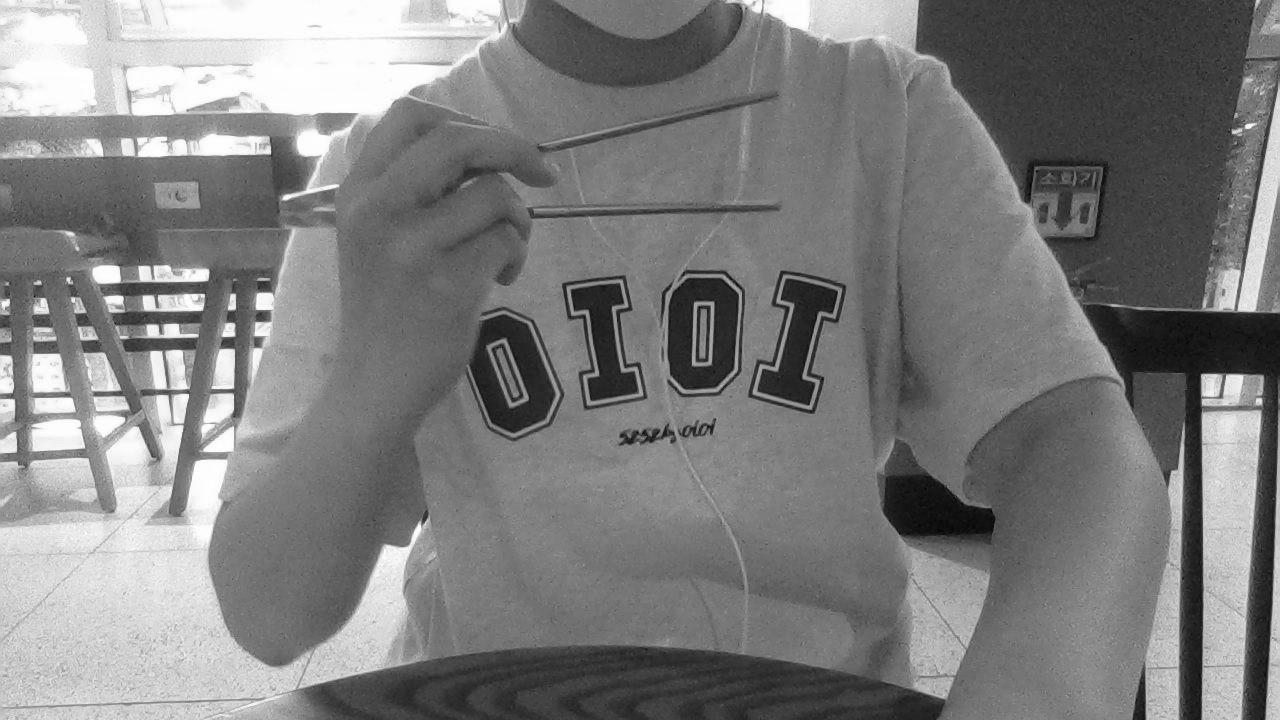chopstick: (278, 89, 784, 214), (277, 203, 786, 231)
hand: (332, 97, 565, 406)
